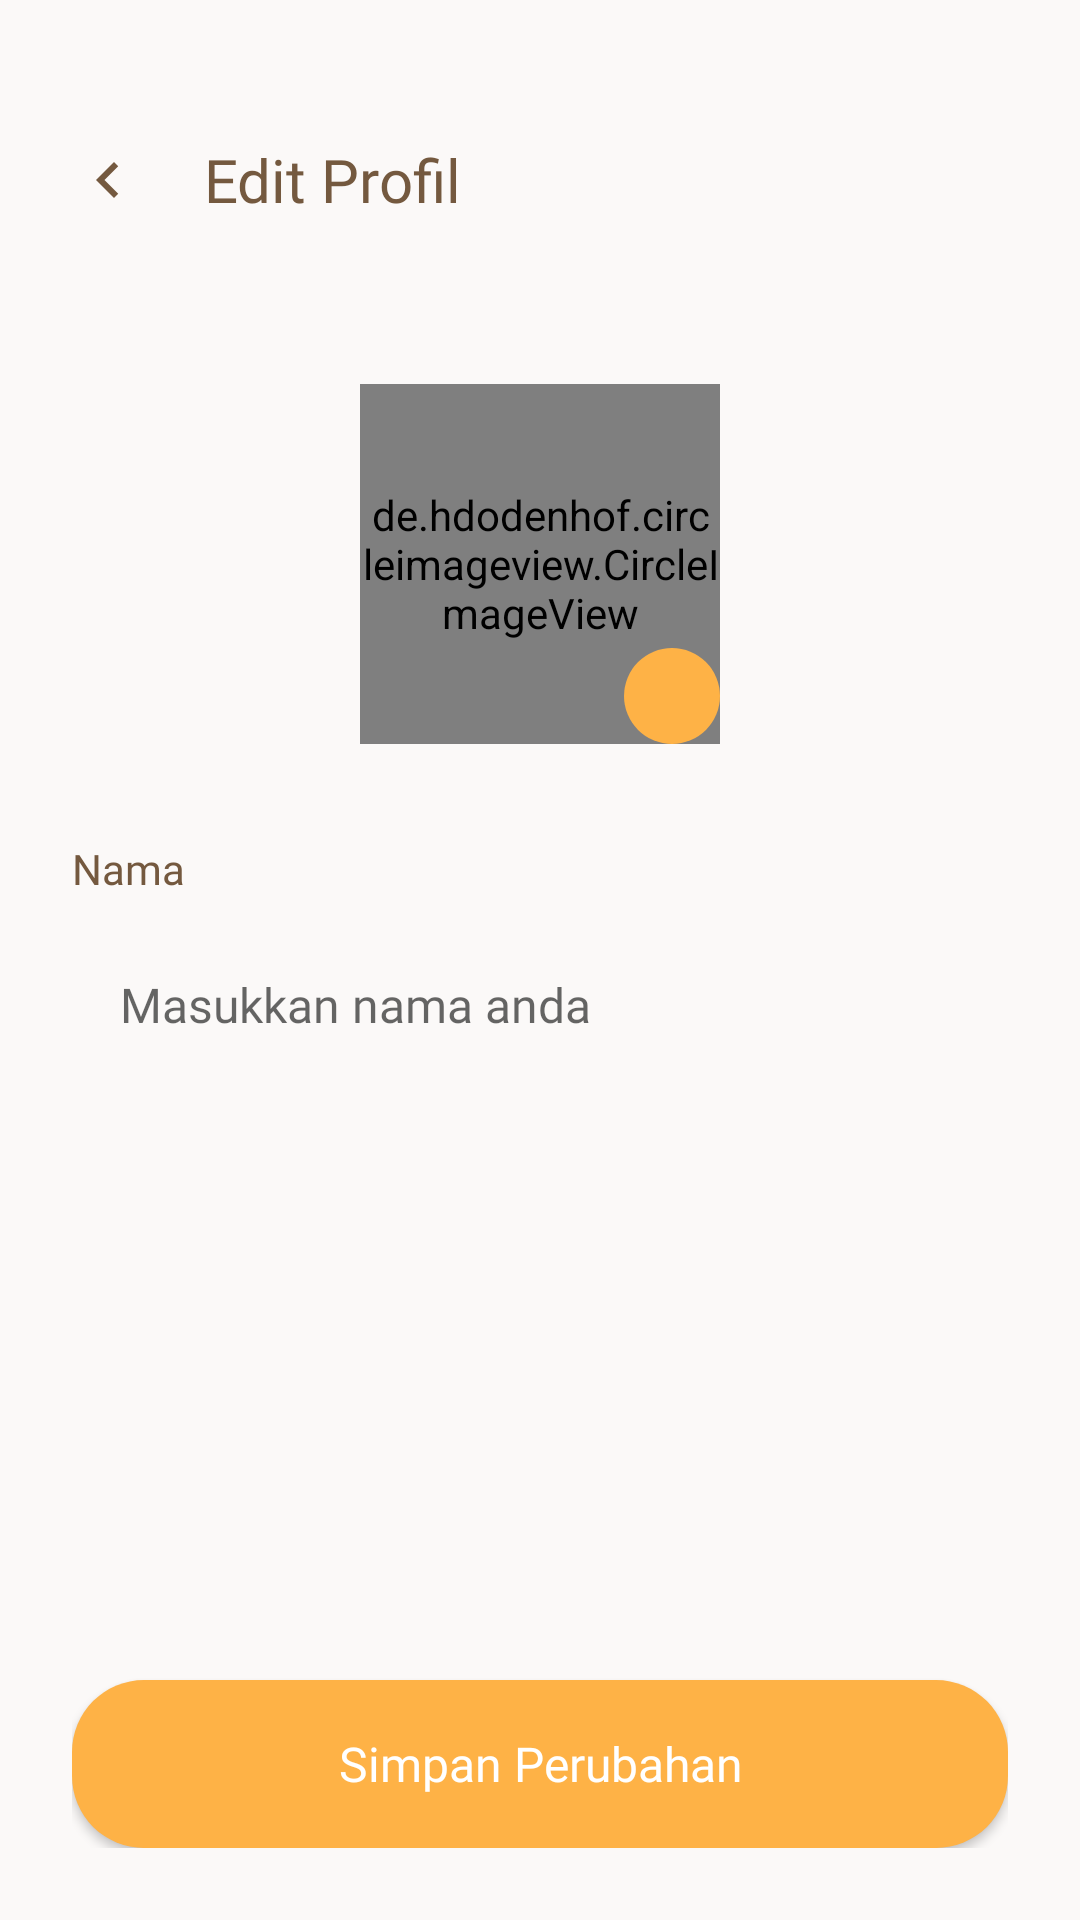

Where icons sit on this 1080px x 1920px app screen, as (x1, y1, x2, y2):
arrow left: (96, 162, 118, 198)
